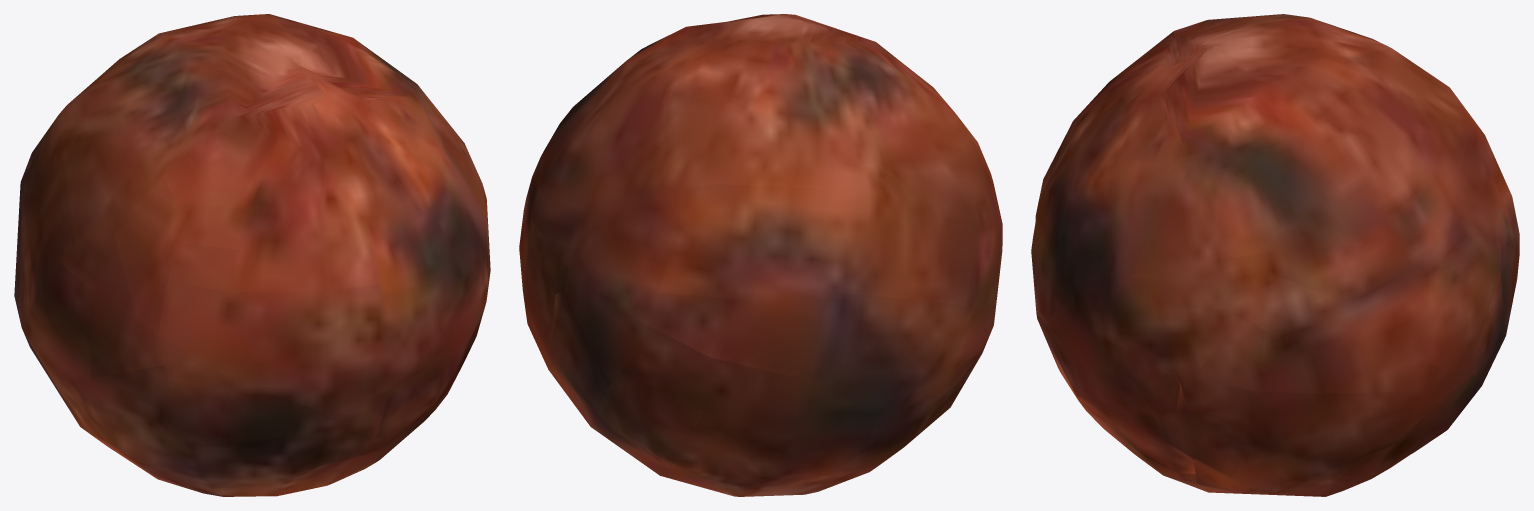
Rendered from planet_16-far.glb.
3 views of the same model, side by side, from view 1: azimuth 30°, elevation 25°; view 2: azimuth 150°, elevation 25°; view 3: azimuth 270°, elevation 25° (orthographic).
Parts seen in each view (by area): view 1: Mesh_0.001; view 2: Mesh_0.001; view 3: Mesh_0.001.
Part boxes in pixels (left/top/right/bottom): Mesh_0.001: left=14, top=14, right=490, bottom=496; Mesh_0.001: left=519, top=14, right=1002, bottom=496; Mesh_0.001: left=1031, top=14, right=1519, bottom=496.
Bounding box in the file's own units: 1.89 × 1.9 × 1.89.
1 material, 1 textured.
